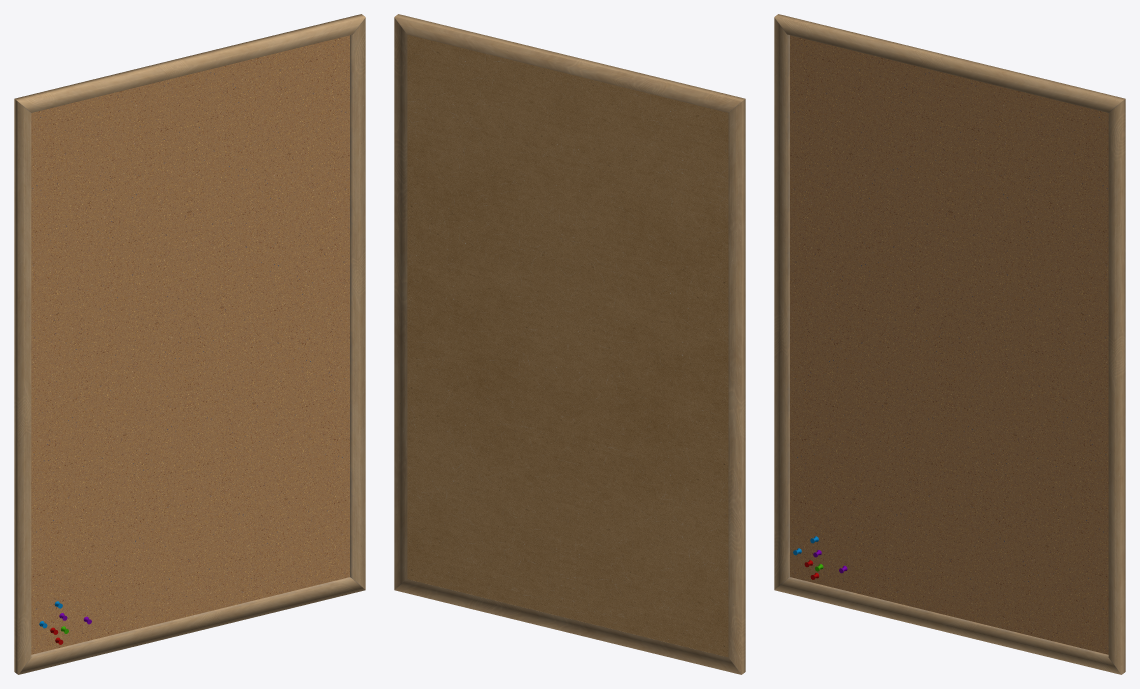
File: SM_NoticeBoard_01b.fbx
3 renders of one model, left to right at view 1: azimuth 30°, elevation 25°; view 2: azimuth 150°, elevation 25°; view 3: azimuth 330°, elevation 25°, orthographic.
Parts seen in each view (by area): view 1: SM_NoticeBoard_01b; view 2: SM_NoticeBoard_01b; view 3: SM_NoticeBoard_01b.
Part boxes in pixels (x1,y1,x2,y2): SM_NoticeBoard_01b: (14, 14, 365, 674); SM_NoticeBoard_01b: (394, 14, 745, 674); SM_NoticeBoard_01b: (774, 14, 1125, 674).
Size of the model in its own units: 56.61 by 89.24 by 2.03.
1 material, 1 textured.
